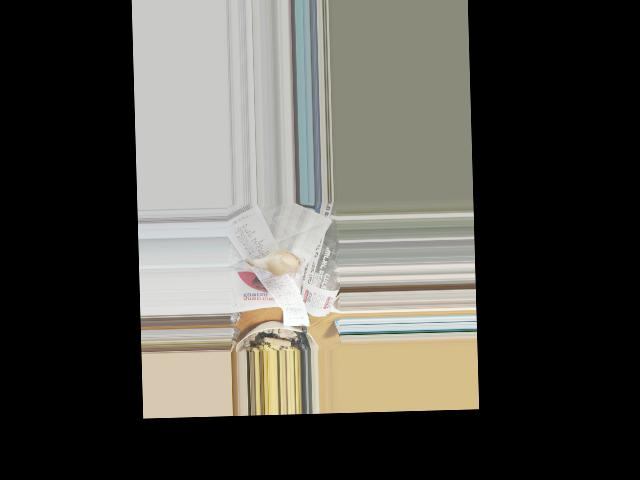onion: (261, 249, 304, 273)
